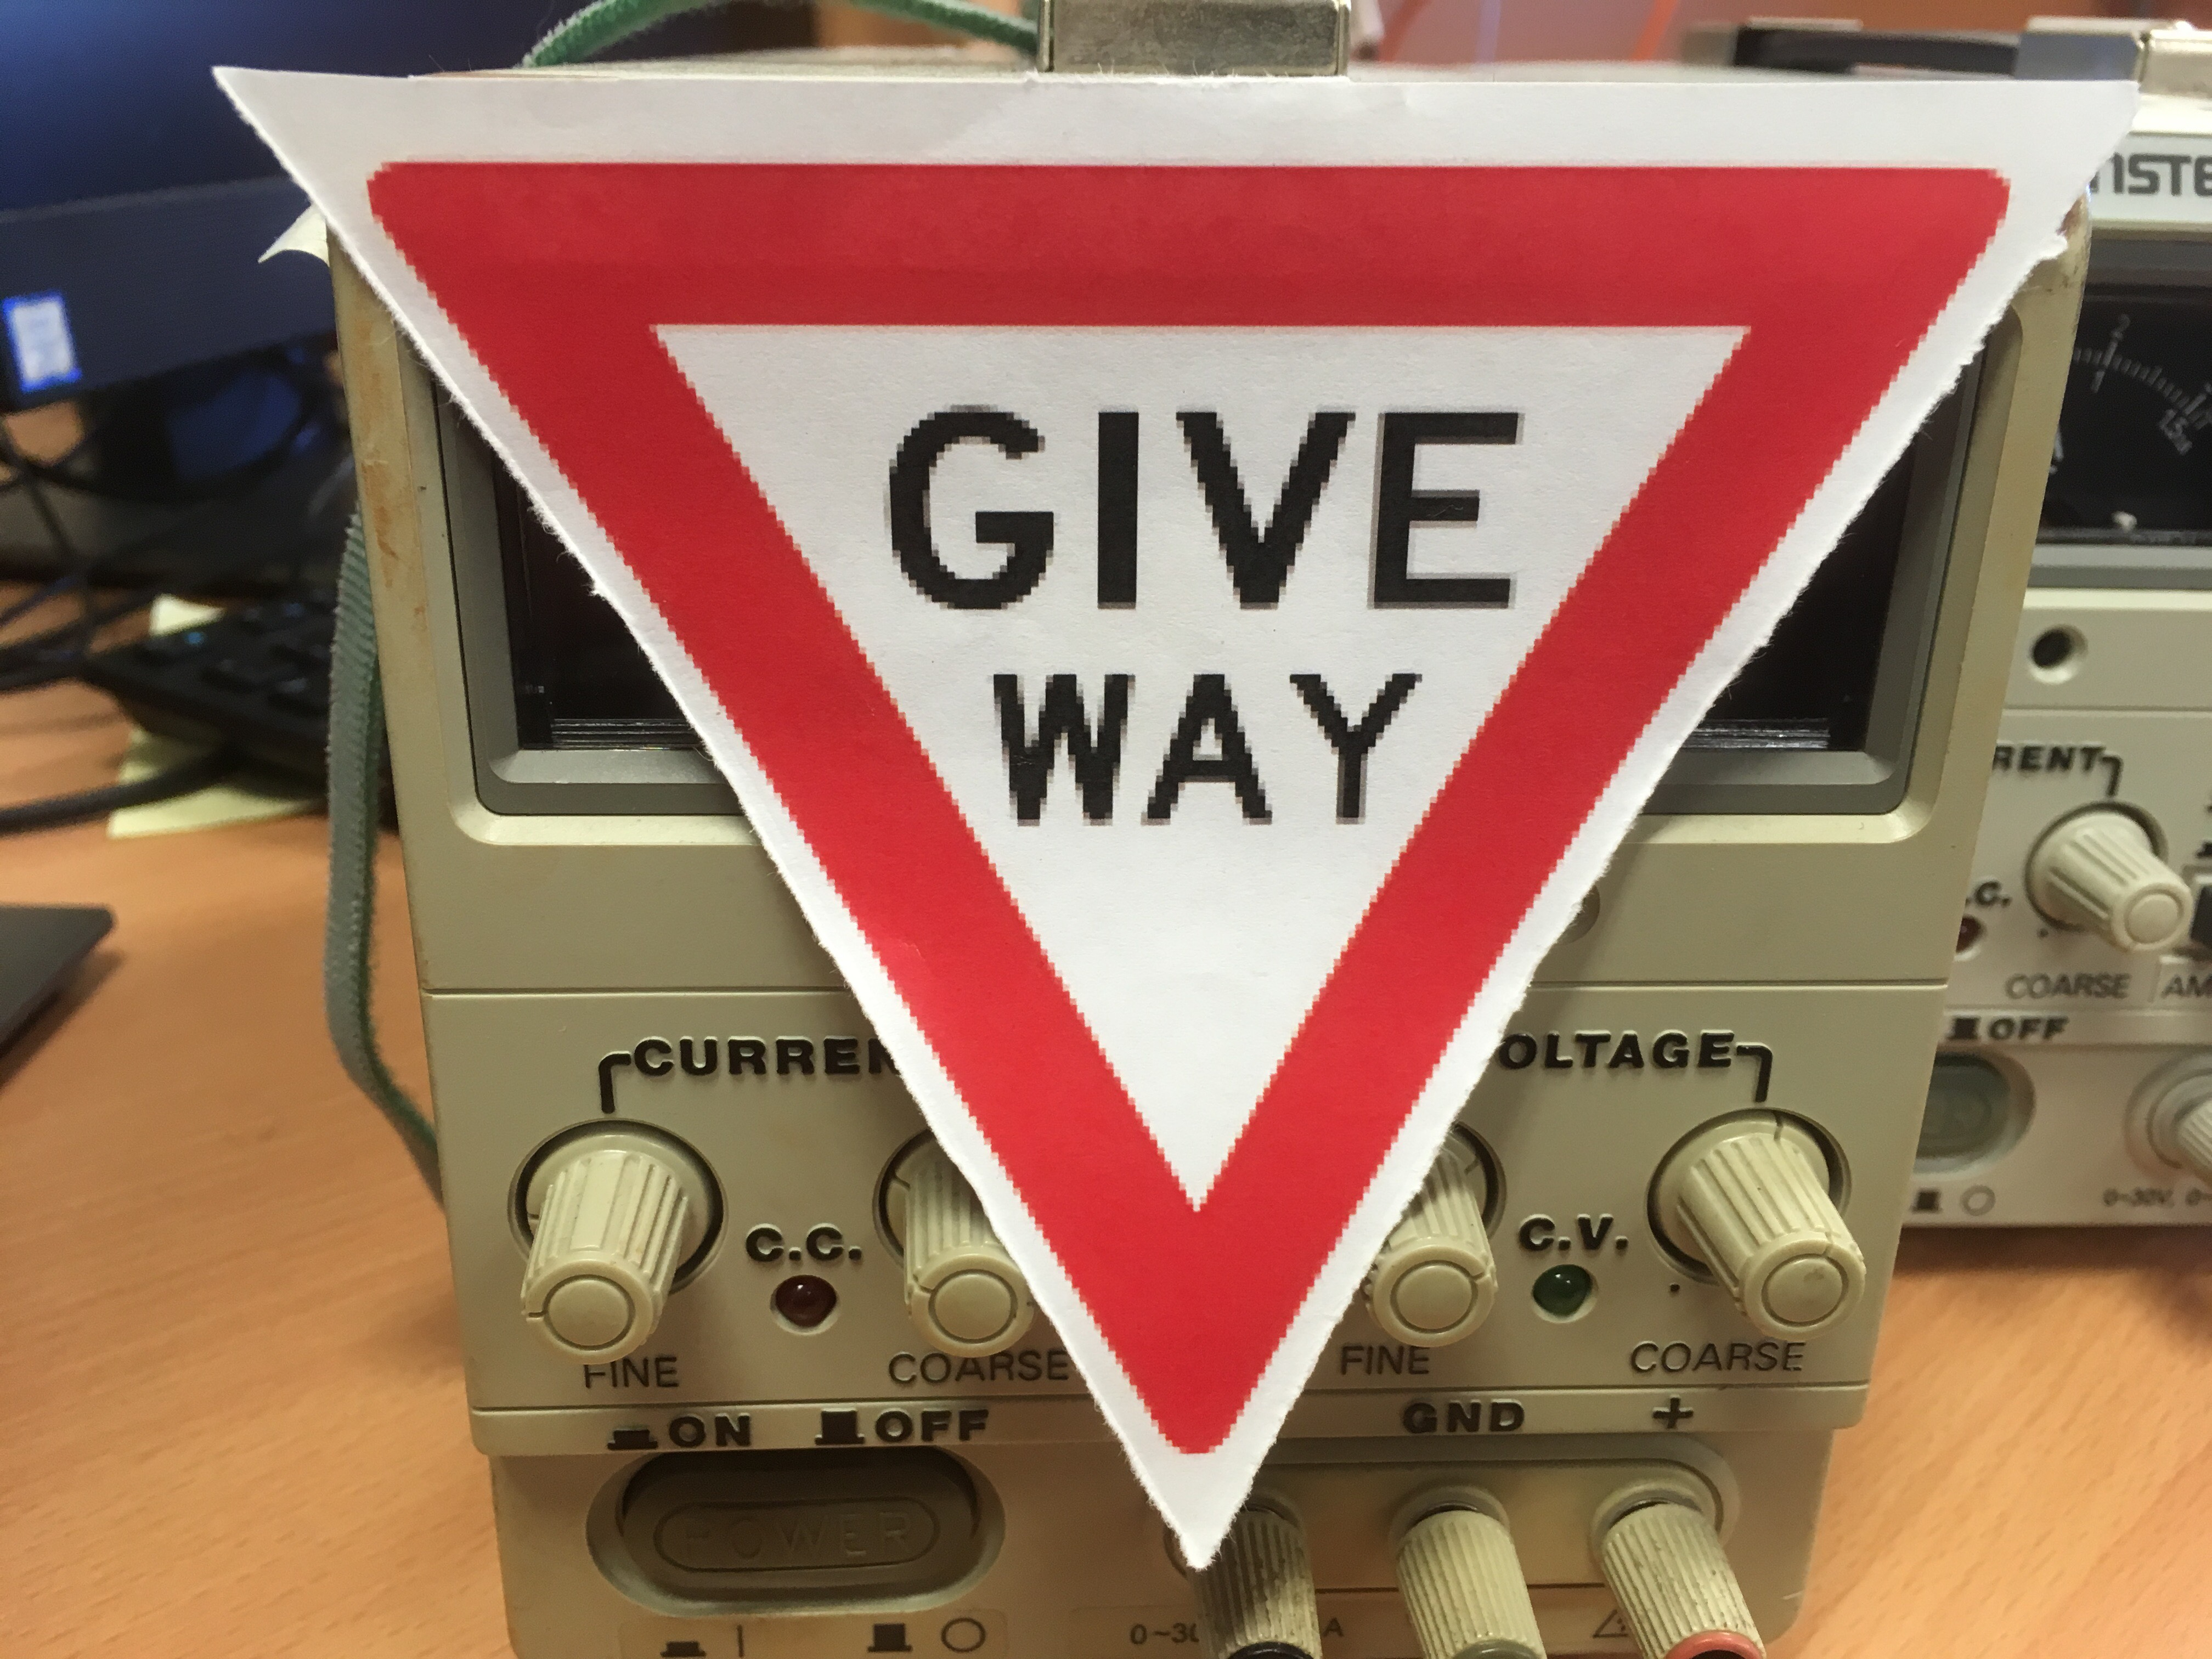giveway: (366, 155, 2036, 1523), (282, 124, 2083, 945), (362, 152, 1186, 1471), (1198, 132, 1977, 1486), (688, 580, 1533, 1371)
